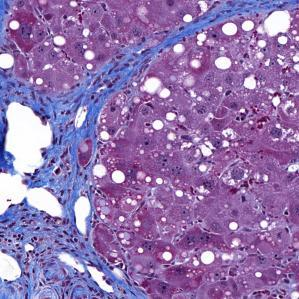fibrosis: (4, 209, 122, 299), (49, 90, 111, 198)
